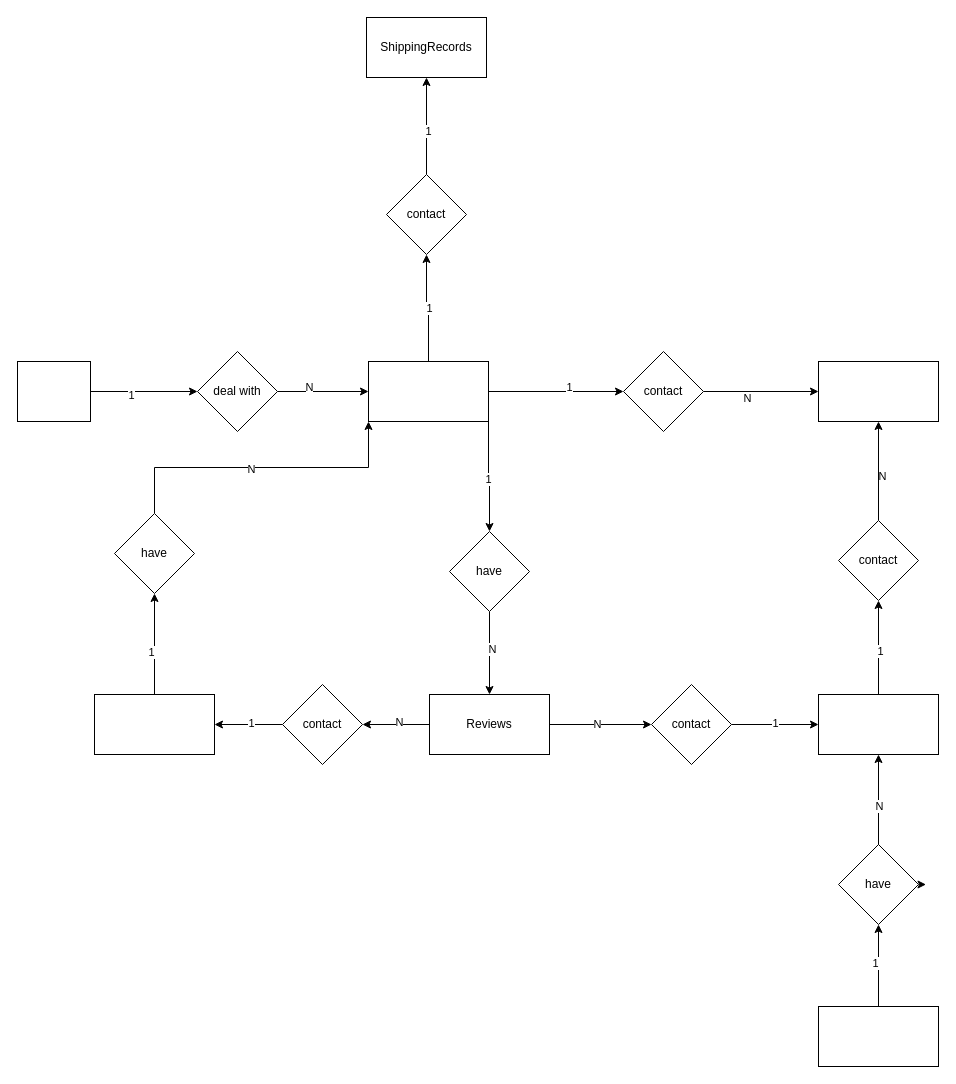
Some shapes in this 956 by 1084 pixel diagram are drawn without their labels. The centre of each missing label's shape, as x and y in pixels:
"BookCategories" goes at point 878,1036.
"books" goes at point 878,724.
"Customers" goes at point 154,724.
"OrderDetails" goes at point 878,391.
"Orders" goes at point 428,391.
"user" goes at point 53,391.
